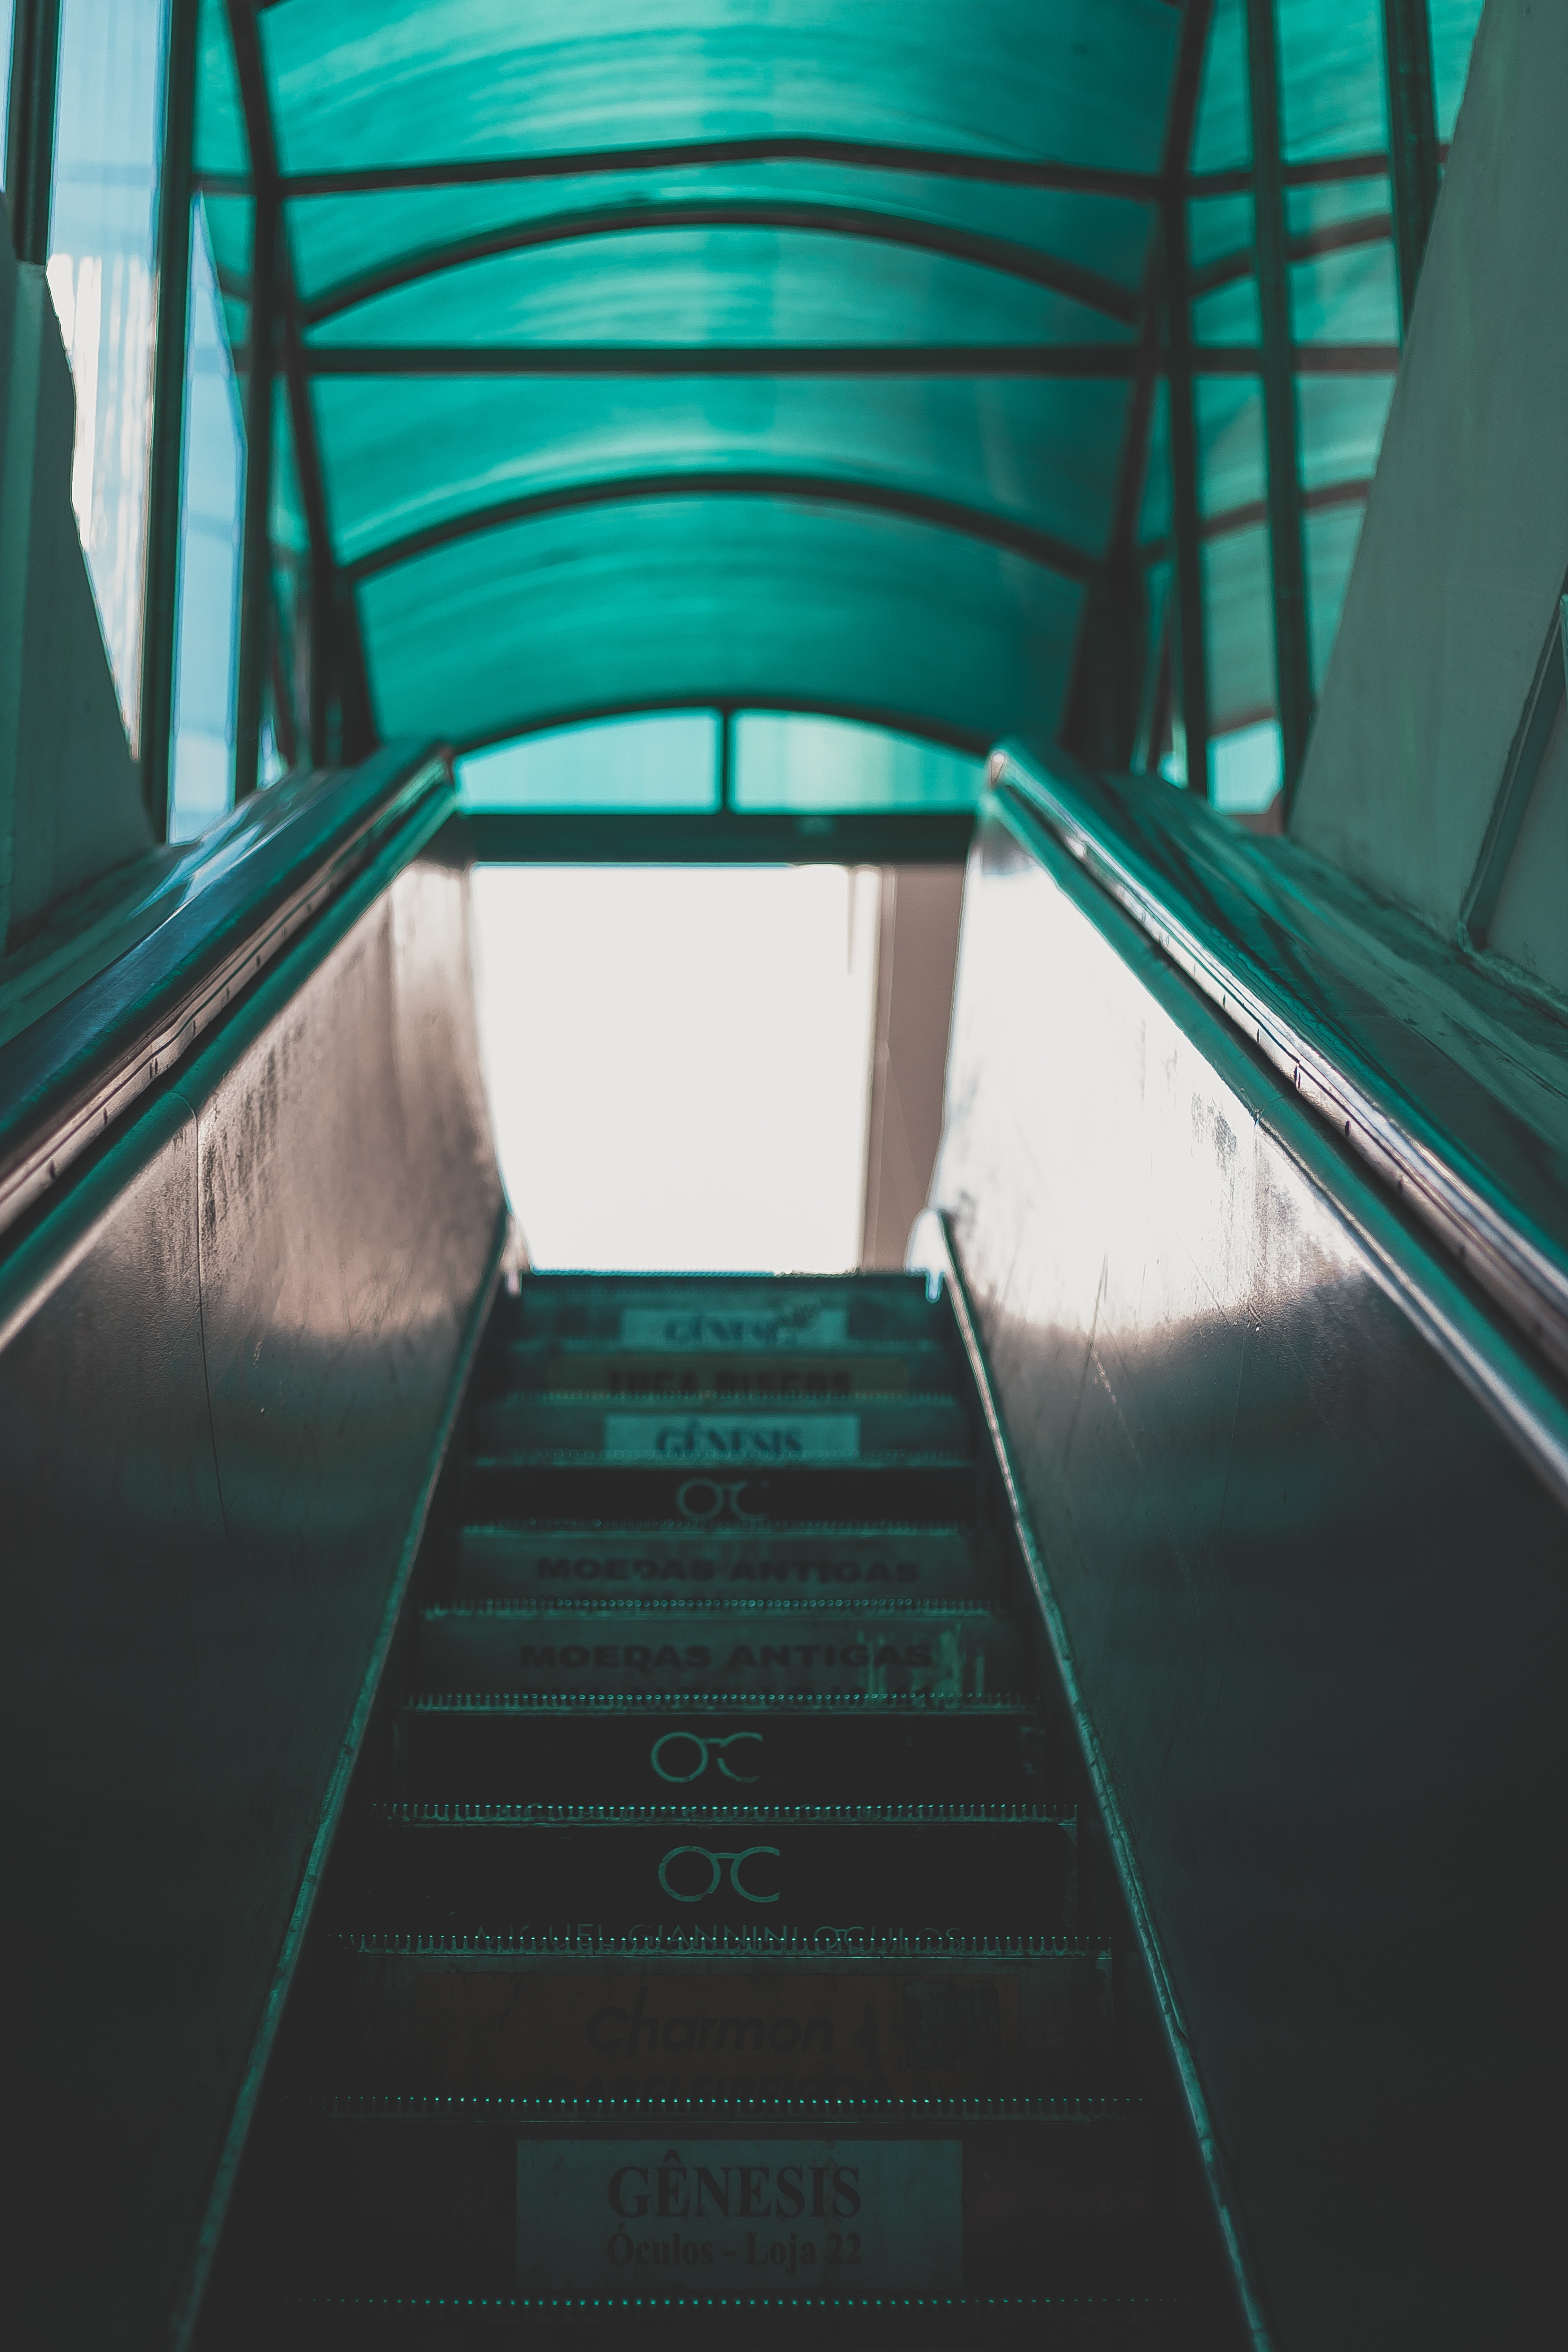upstairs: (422, 1671, 1055, 2301)
